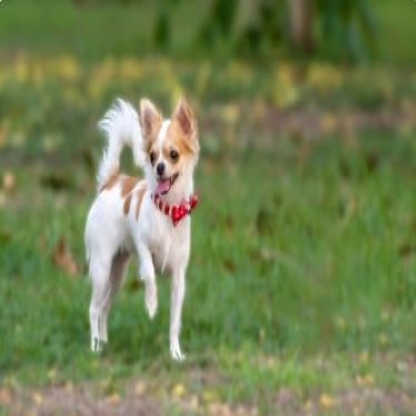chihuahua: (81, 93, 204, 364)
